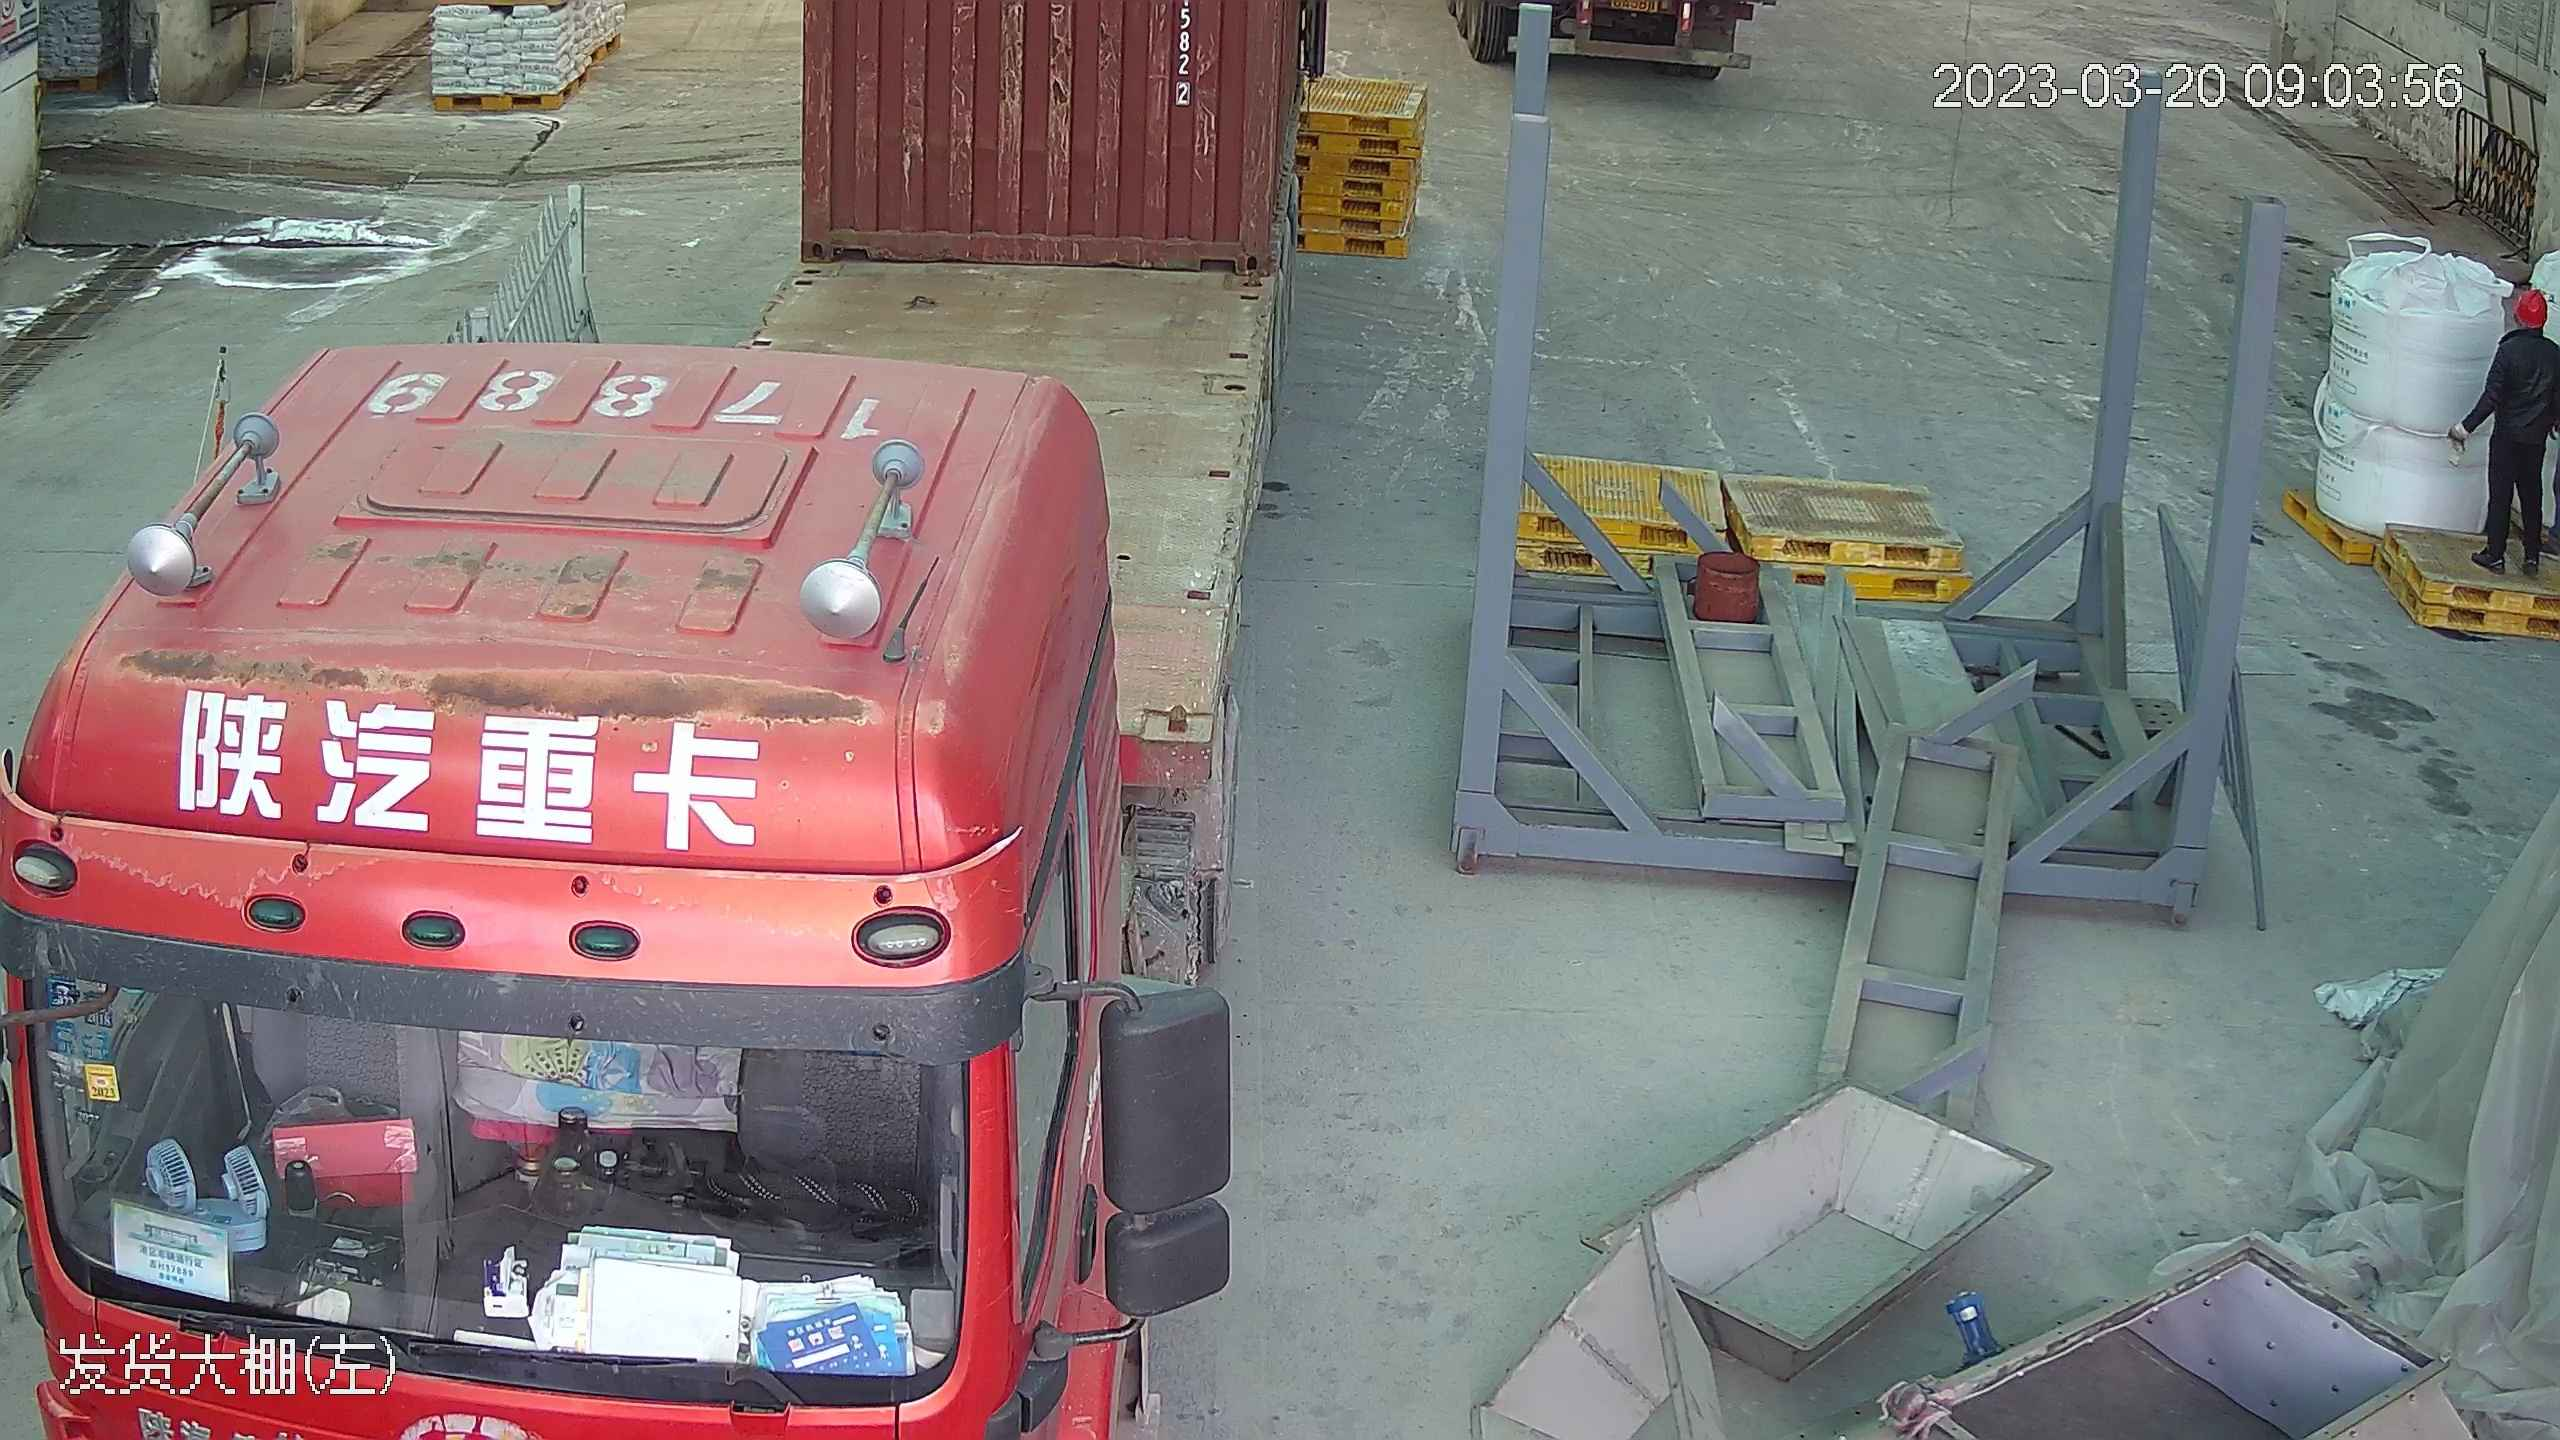head: (2489, 279, 2558, 379)
helmet: (2490, 279, 2556, 379), (2507, 280, 2552, 323)
people: (2458, 276, 2560, 568)
truck: (9, 0, 1290, 1440)
